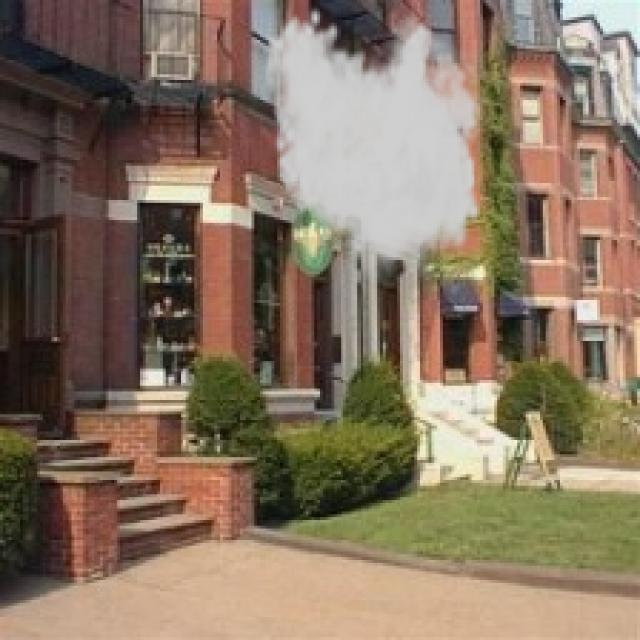smoke: (263, 5, 494, 288)
